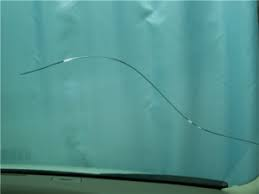scratch: (11, 51, 159, 83), (186, 113, 259, 150)
